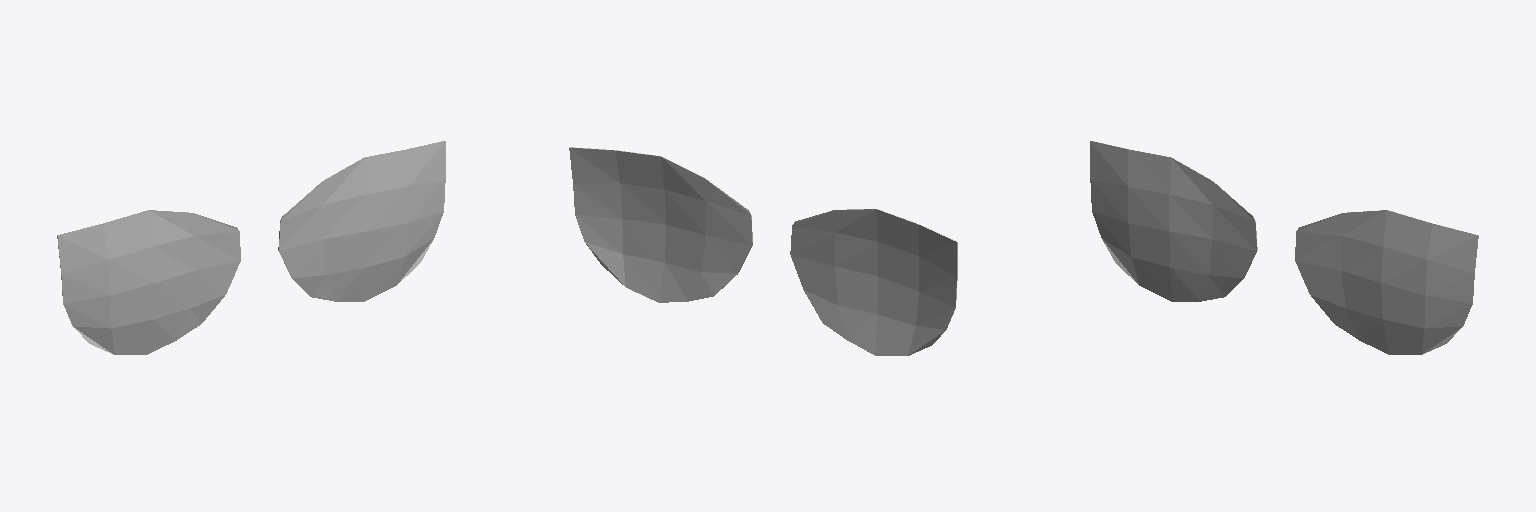
File: glasses_7_lenses.obj
3 views of the same model, side by side, from view 1: azimuth 30°, elevation 25°; view 2: azimuth 150°, elevation 25°; view 3: azimuth 330°, elevation 25° (orthographic).
Parts seen in each view (by area): view 1: Plane; view 2: Plane; view 3: Plane.
Part boxes in pixels (x1,y1,x2,y2): Plane: (57, 141, 445, 354); Plane: (569, 147, 957, 355); Plane: (1090, 141, 1478, 354).
Size of the model in its own units: 0.1393 by 0.0499 by 0.006.